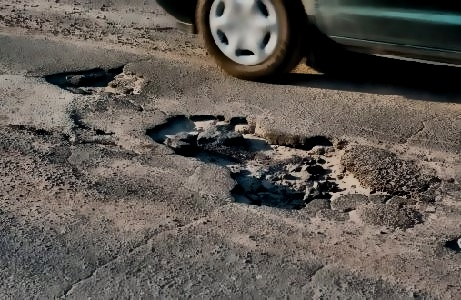pothole: (143, 109, 370, 210), (41, 63, 145, 95)
